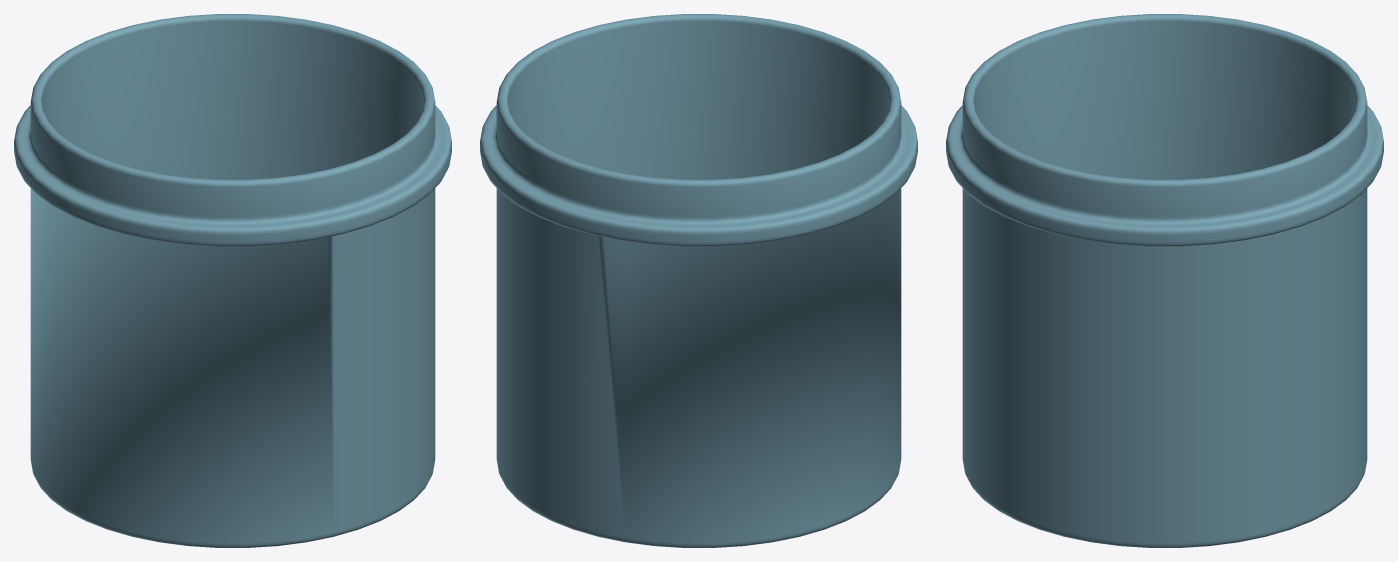
File: Schale voll.fbx
The picture shows the model from 3 angles, left to right: view 1: azimuth 30°, elevation 25°; view 2: azimuth 150°, elevation 25°; view 3: azimuth 270°, elevation 25°; orthographic projection.
Parts seen in each view (by area): view 1: Schale; view 2: Schale; view 3: Schale.
Boxes of the visible parts, x1,y1,x2,y2 form: Schale: (14,14,451,547); Schale: (480,14,917,547); Schale: (946,14,1383,547).
Bounding box in the file's own units: 216 × 200 × 217.
